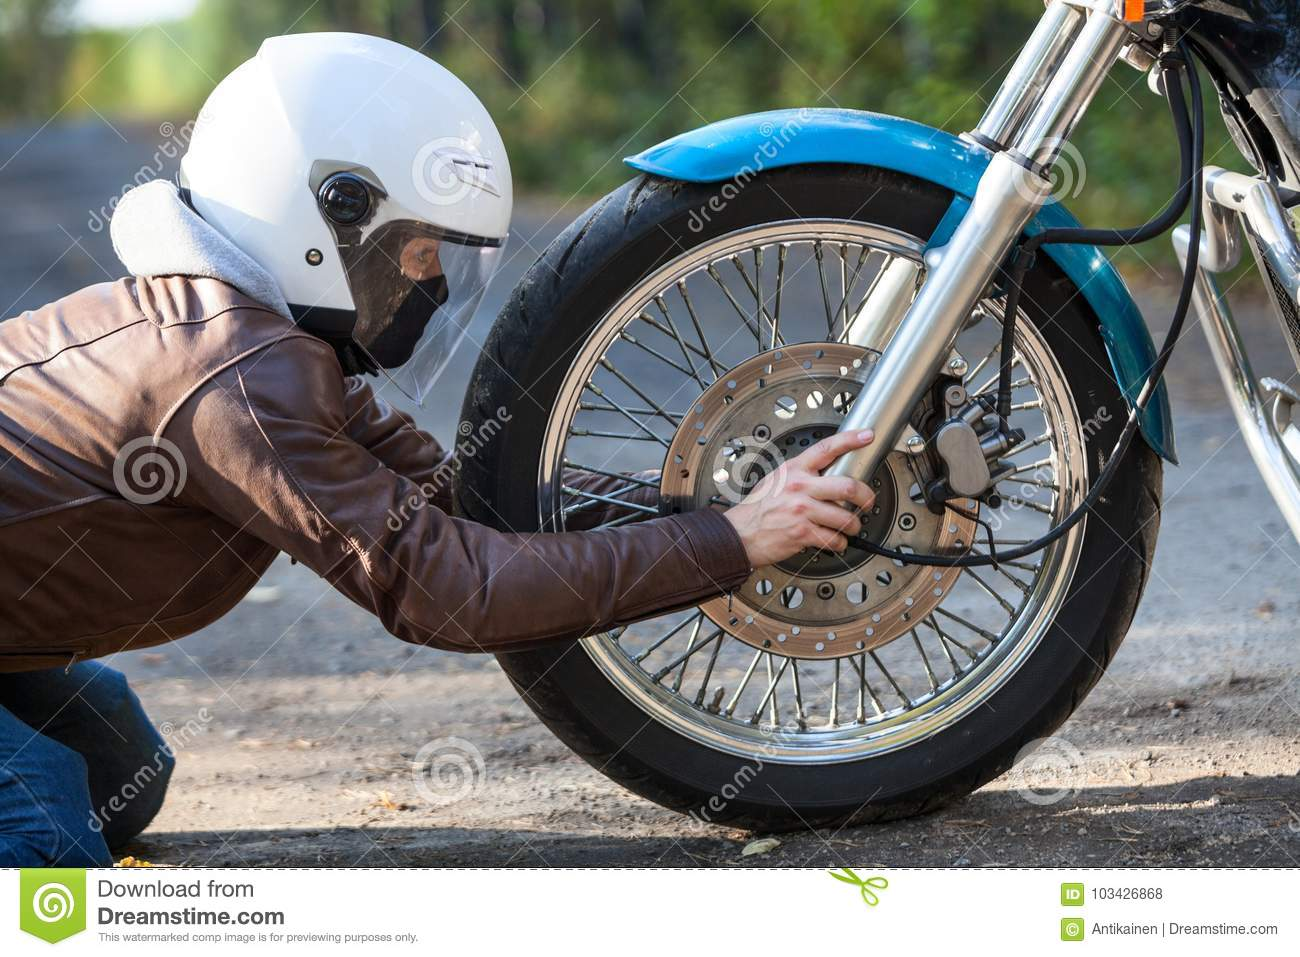helmet: (173, 20, 501, 340)
